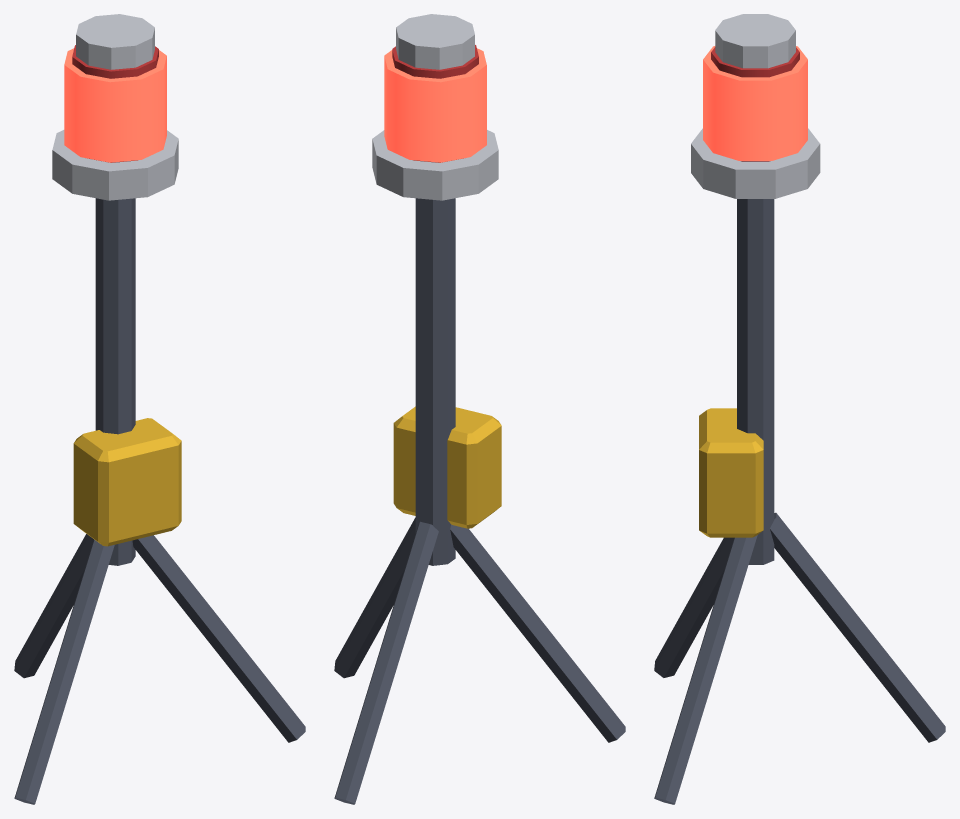
The model's file is sci-beacon.glb.
The picture shows the model from 3 angles, left to right: view 1: azimuth 30°, elevation 25°; view 2: azimuth 150°, elevation 25°; view 3: azimuth 270°, elevation 25°; orthographic projection.
Visible parts, largest first — view 1: Beacon legs, Beacon box, Beacon cap, Beacon light, Beacon lens; view 2: Beacon legs, Beacon cap, Beacon light, Beacon box, Beacon lens; view 3: Beacon legs, Beacon cap, Beacon light, Beacon box, Beacon lens.
Part boxes in pixels (x1=…): Beacon legs: x1=14, y1=198, x2=305, y2=804; Beacon box: x1=73, y1=418, x2=181, y2=546; Beacon cap: x1=52, y1=14, x2=178, y2=200; Beacon light: x1=64, y1=48, x2=166, y2=162; Beacon lens: x1=72, y1=45, x2=158, y2=162; Beacon legs: x1=334, y1=198, x2=625, y2=804; Beacon cap: x1=372, y1=14, x2=498, y2=200; Beacon light: x1=384, y1=48, x2=486, y2=162; Beacon box: x1=393, y1=406, x2=501, y2=528; Beacon lens: x1=392, y1=45, x2=478, y2=162; Beacon legs: x1=654, y1=199, x2=945, y2=804; Beacon cap: x1=691, y1=14, x2=820, y2=198; Beacon light: x1=703, y1=46, x2=807, y2=160; Beacon box: x1=699, y1=408, x2=763, y2=537; Beacon lens: x1=711, y1=47, x2=799, y2=161.
Bounding box in the file's own units: 0.831 × 1.94 × 0.7221.
